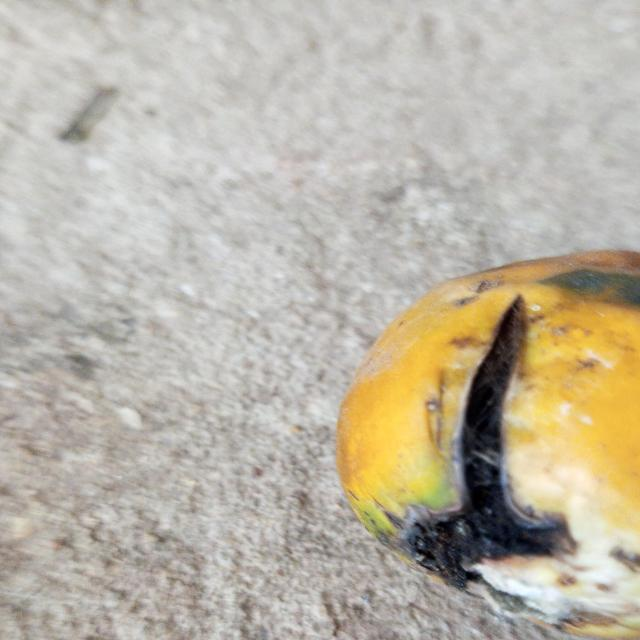damaged: (337, 251, 640, 638)
